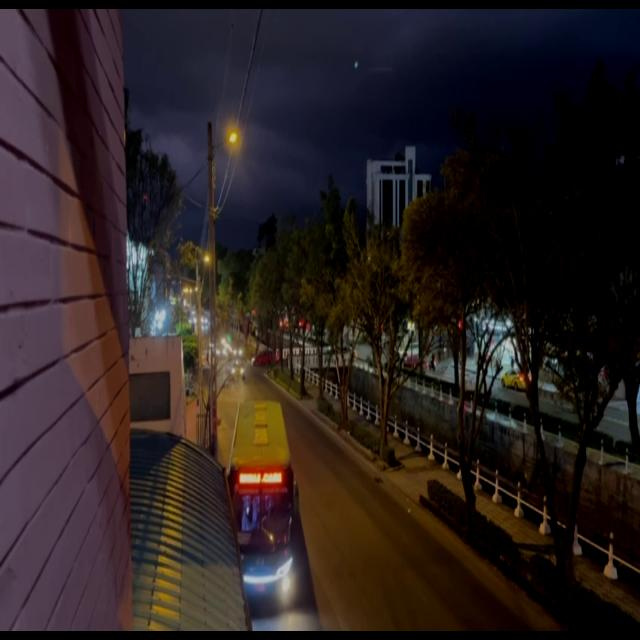BUS: (228, 408, 301, 606)
